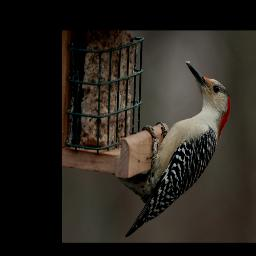Woodpecker: (117, 60, 232, 238)
